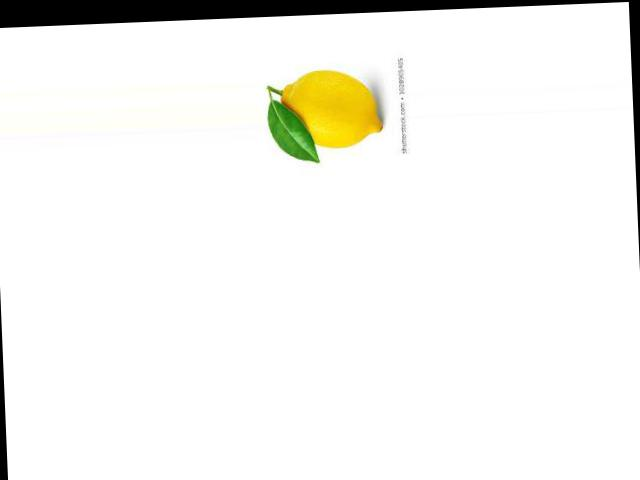lemon: (276, 65, 388, 154)
